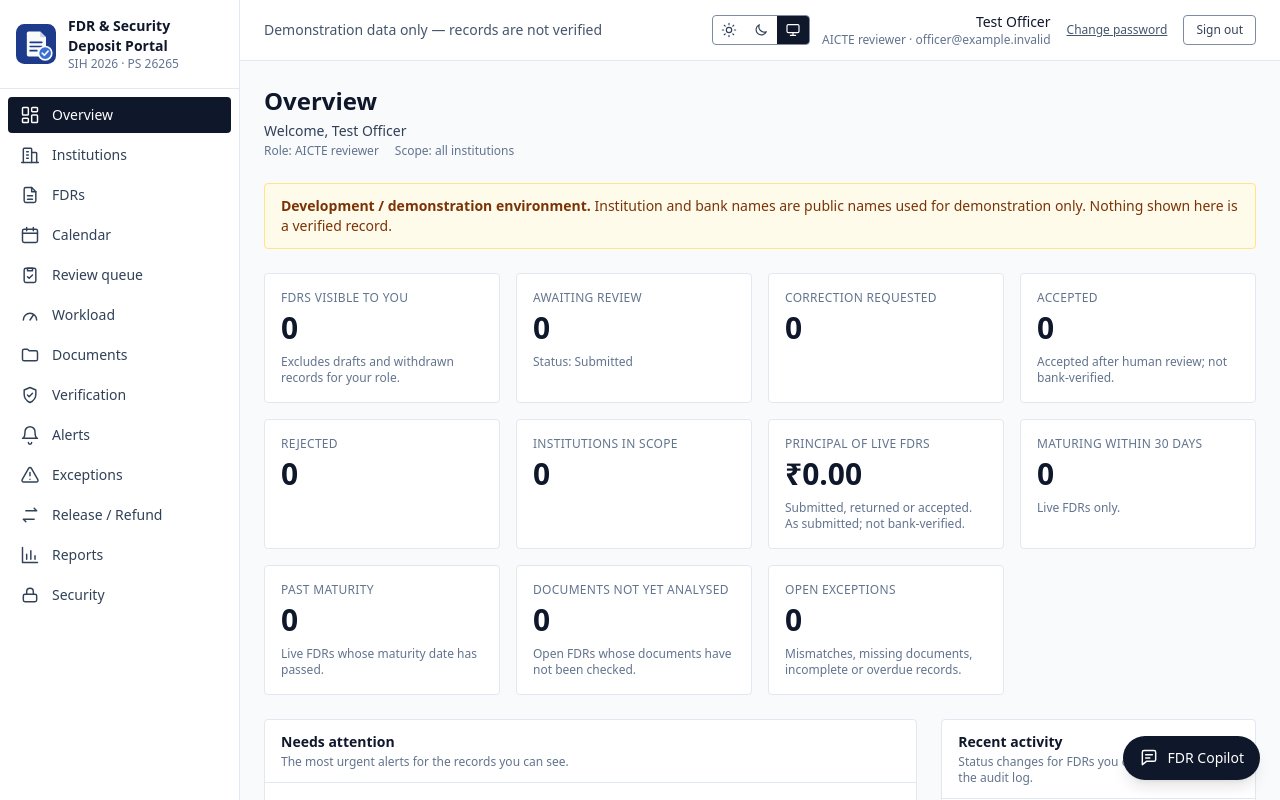
Scenario: FDR Copilot answer feedback › asks for an optional fixed reason after 'Not helpful' and sends nothing until the user confirms
The width and height of the screenshot is (1280, 800).
Check: the navigation bar named "Main" is shown, box [0,89,239,621]
Click the button with aria-label "Open FDR Copilot" at (1192,758), box [1124,736,1260,780]
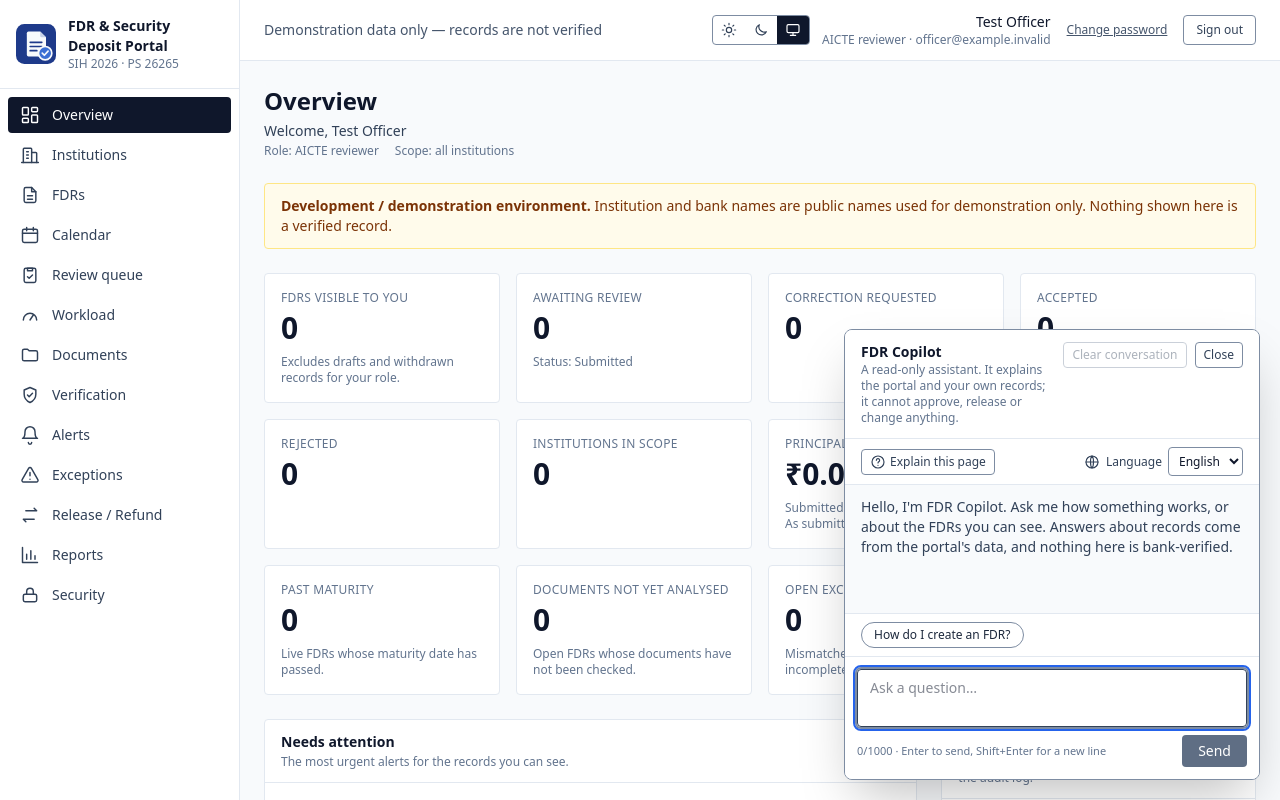
Type "hello" into the text box named "Your question" at (1052,698), box [857,669,1247,727]
Then press Enter
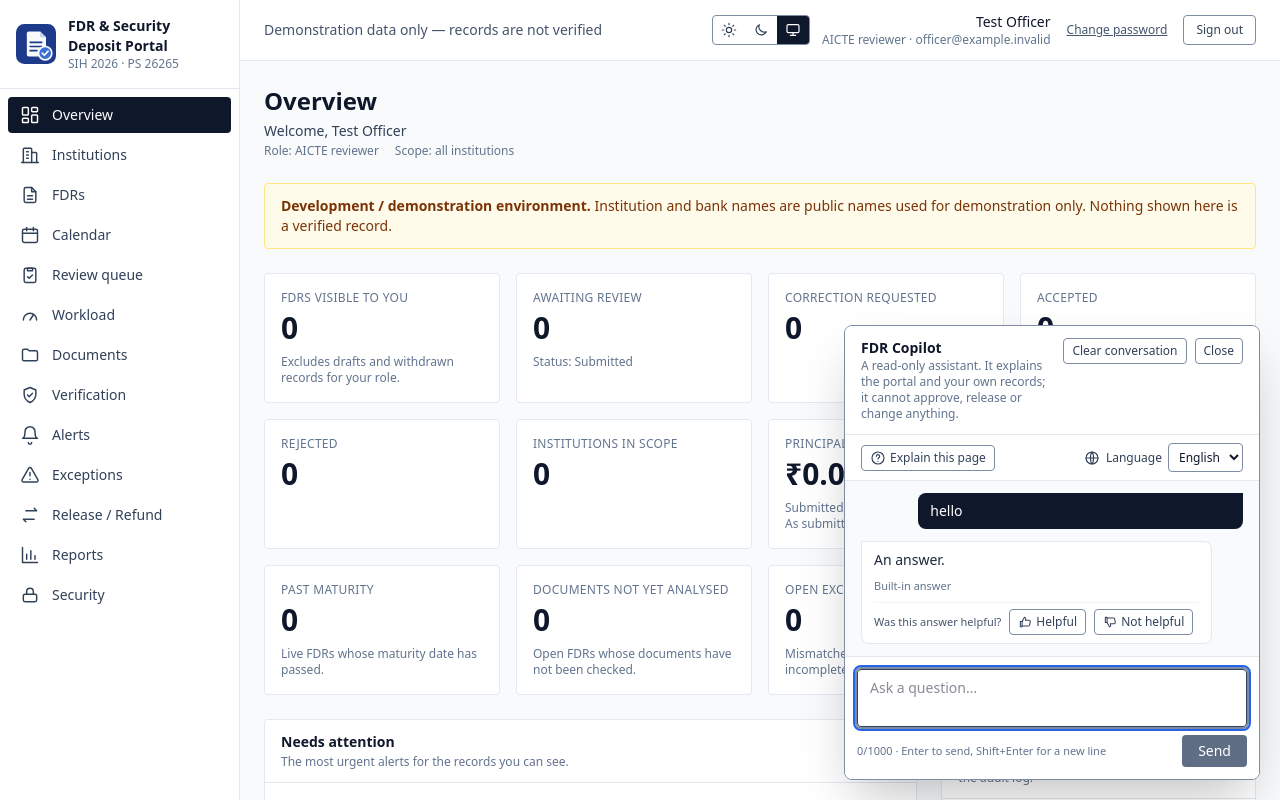
Check: the text "An answer." is shown, box [874,550,945,569]
Click the button "Not helpful" at (1144,622), box [1094,609,1193,635]
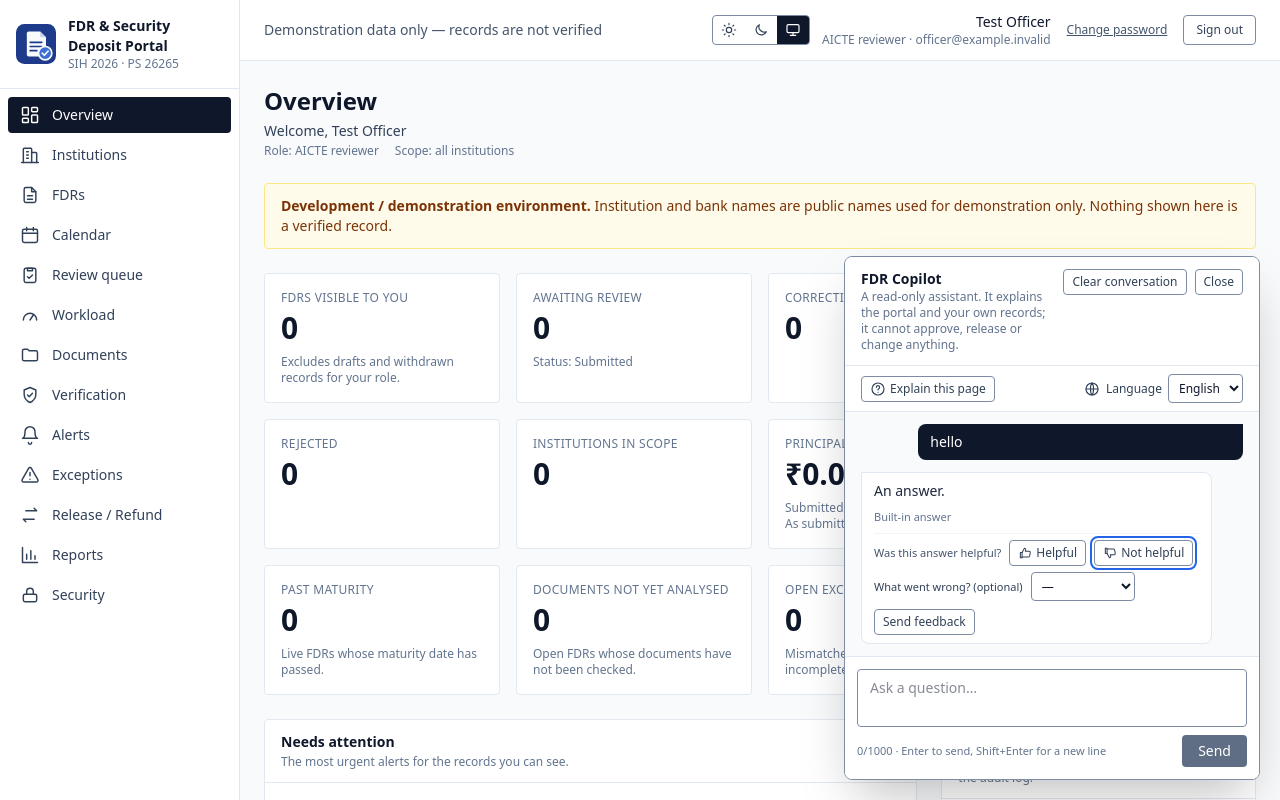
Select "Unclear" in the dropdown labelled "What went wrong? (optional)" at (1083,586), box [1031,572,1135,601]
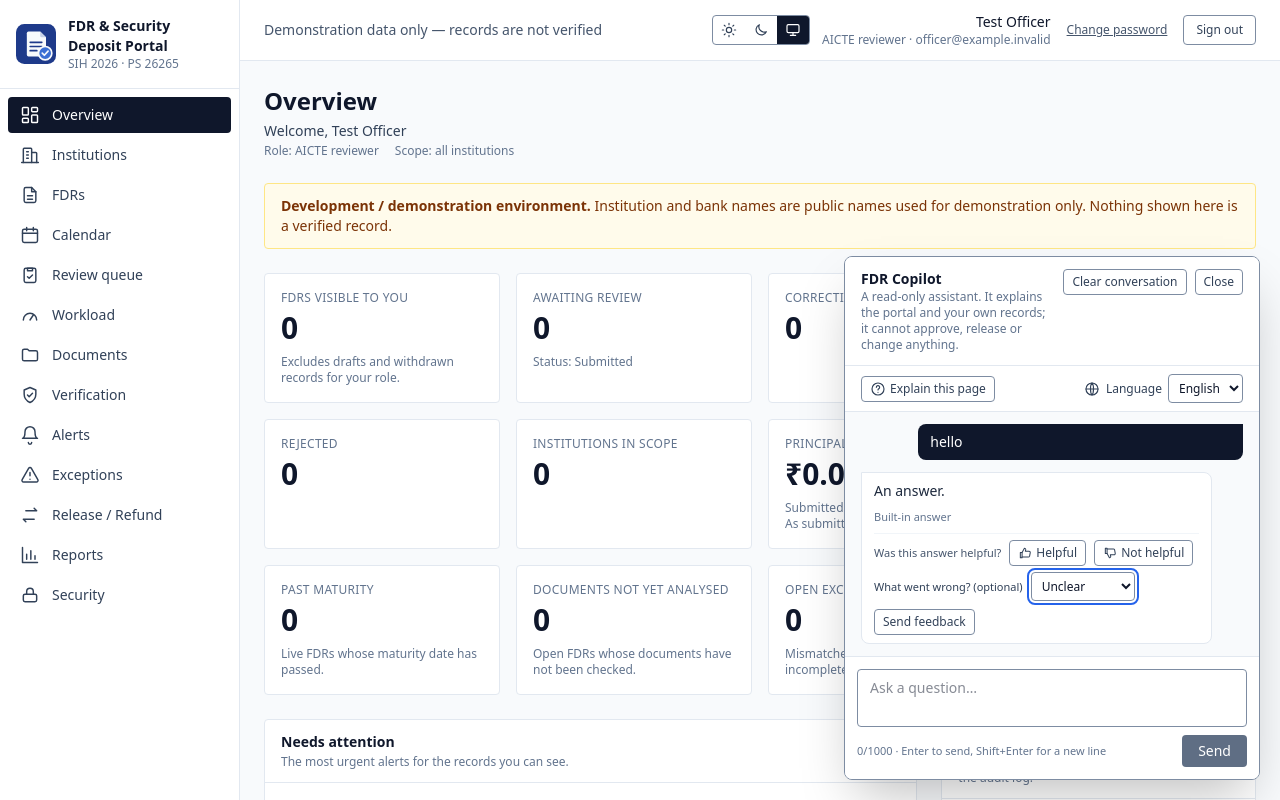
Click the button "Send feedback" at (924,622), box [874,609,975,635]
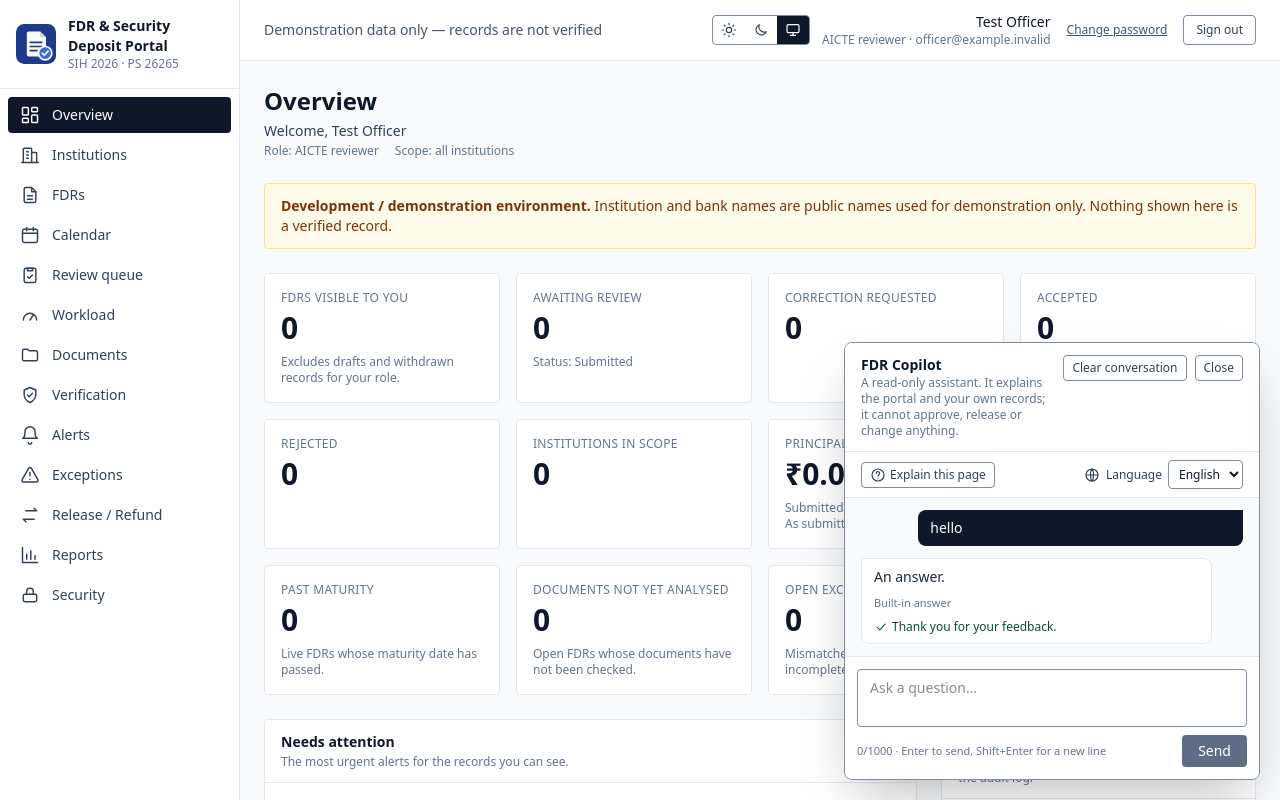
Check: the text "Thank you for your feedback." is shown, box [874,618,1057,635]
